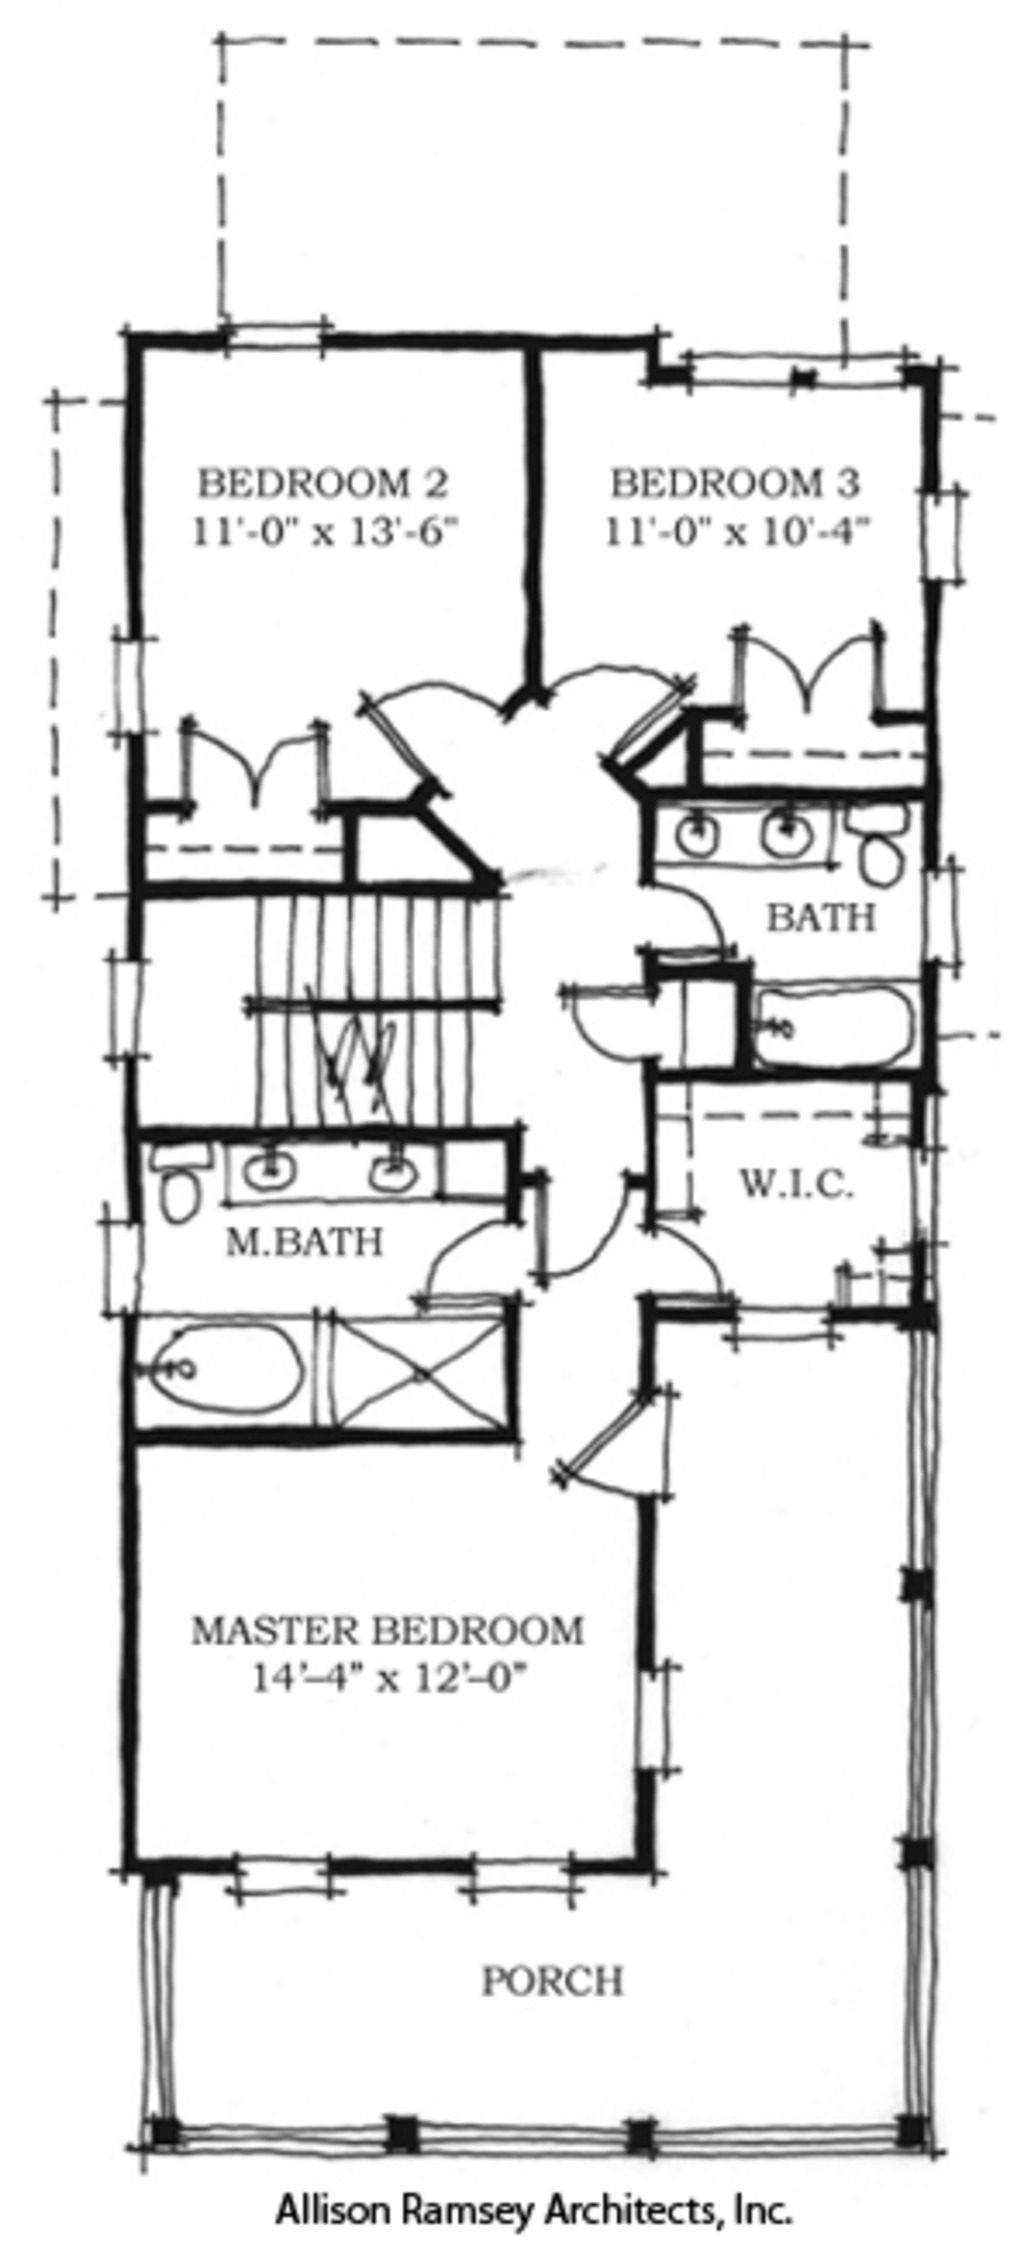door: (160, 722, 345, 825), (729, 615, 887, 729), (533, 647, 679, 765), (353, 677, 503, 789), (525, 1179, 646, 1289), (415, 1222, 522, 1321), (563, 970, 654, 1070), (659, 1223, 734, 1303)
stairs: (237, 880, 501, 1122)
